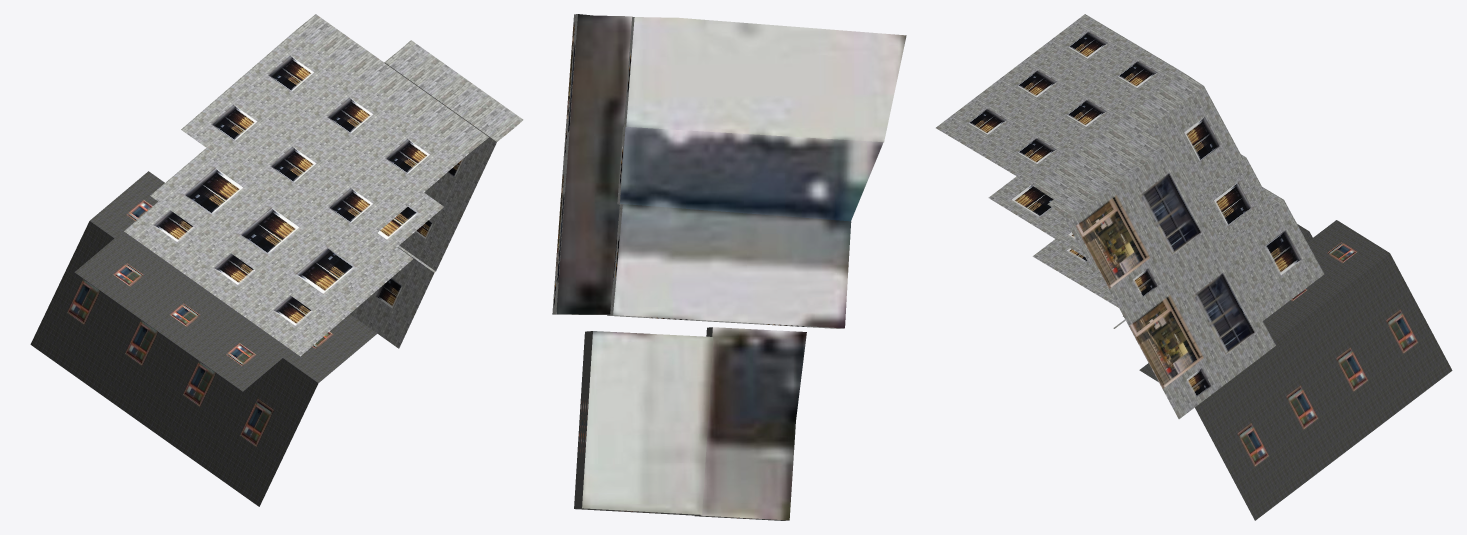
3 renders of one model, left to right at view 1: azimuth 30°, elevation 25°; view 2: azimuth 150°, elevation 25°; view 3: azimuth 270°, elevation 25°, orthographic. The views are drawn at different scales.
Size of the model in its own units: 19.8 by 25.07 by 27.5.
14 materials, 14 textured.
